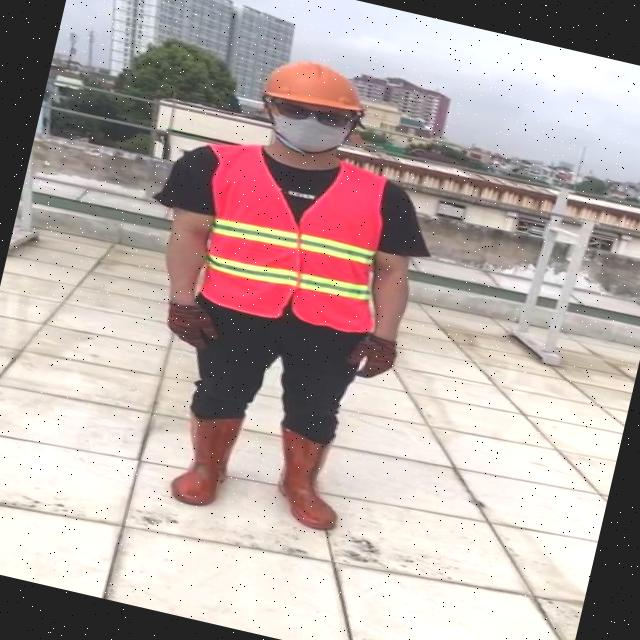boots: (262, 424, 352, 533), (166, 406, 244, 510)
